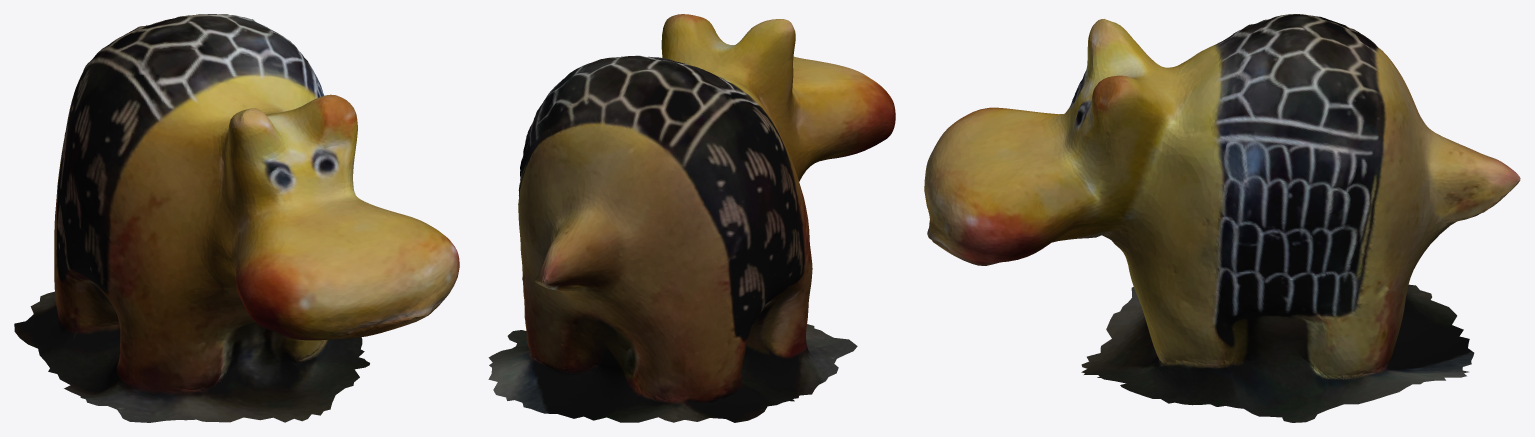
Rendered from hippopotamus.glb.
3 renders of one model, left to right at view 1: azimuth 30°, elevation 25°; view 2: azimuth 150°, elevation 25°; view 3: azimuth 270°, elevation 25°, orthographic. The views are drawn at different scales.
Parts seen in each view (by area): view 1: Mesh_0; view 2: Mesh_0; view 3: Mesh_0.
Boxes of the visible parts, x1,y1,x2,y2 form: Mesh_0: (14, 14, 459, 422); Mesh_0: (488, 14, 895, 422); Mesh_0: (924, 14, 1520, 422).
Size of the model in its own units: 0.2352 by 0.2476 by 0.4007.
1 material, 1 textured.
